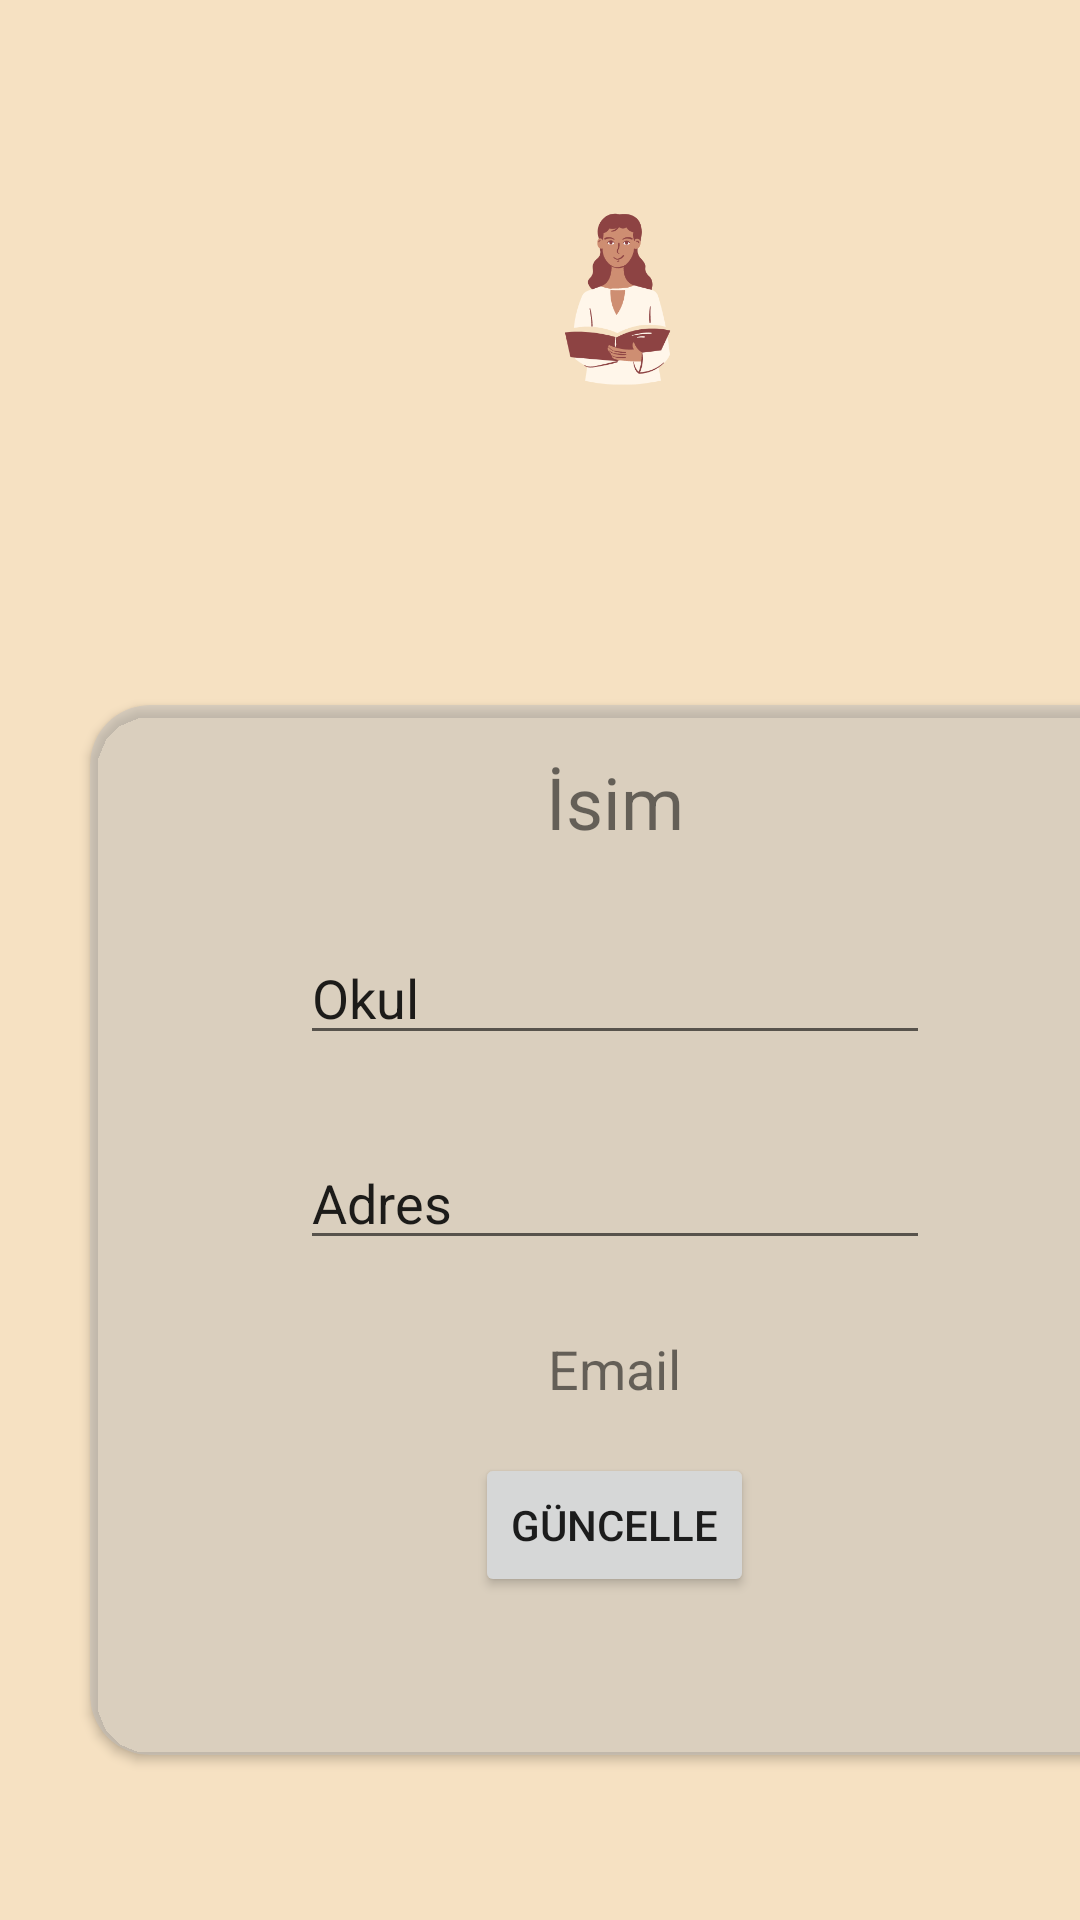

Icons on this 1080 × 1920 Android screen, each with its box as detection(x1, y1, x2, y2):
teacher: detection(565, 213, 670, 384)
